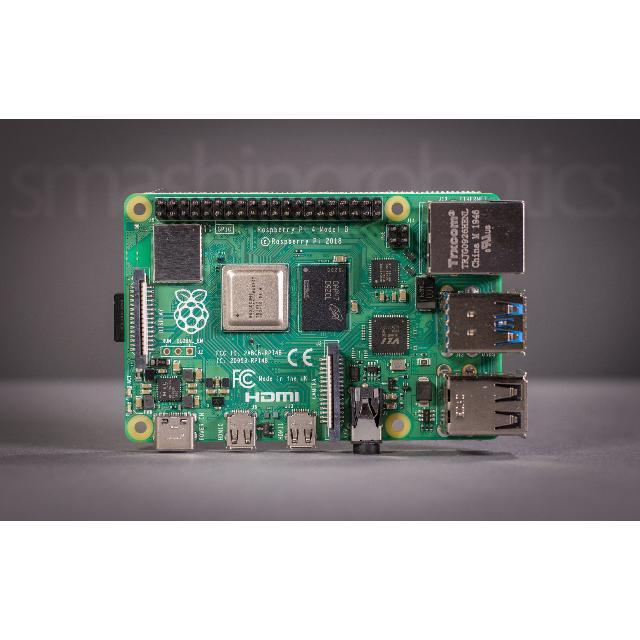Raspberry-Pi-4-B: (114, 192, 529, 453)
